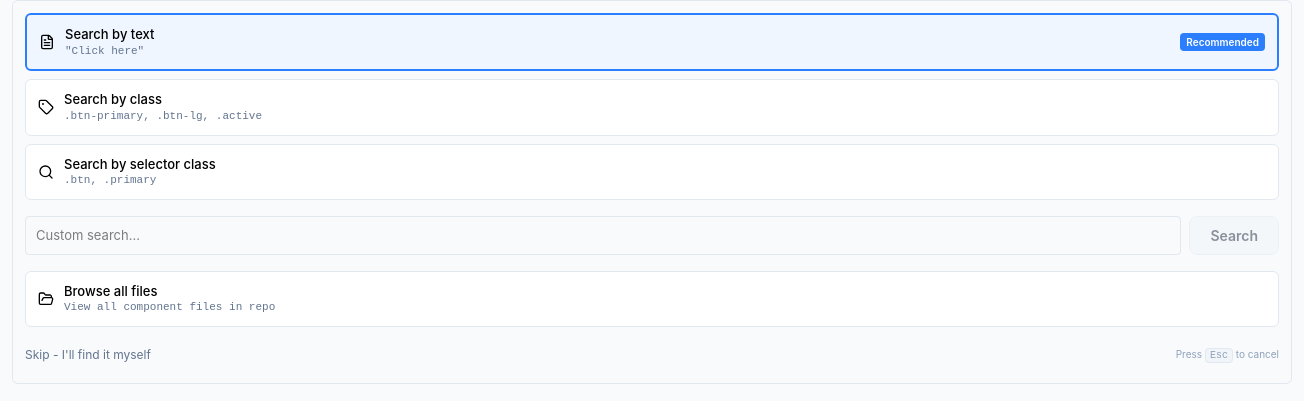
Test: findings/apply-fix/FileFinder › shows search results after searching
Click the text "Search by text" at (110, 34), box left=65, top=26, right=154, bottom=42
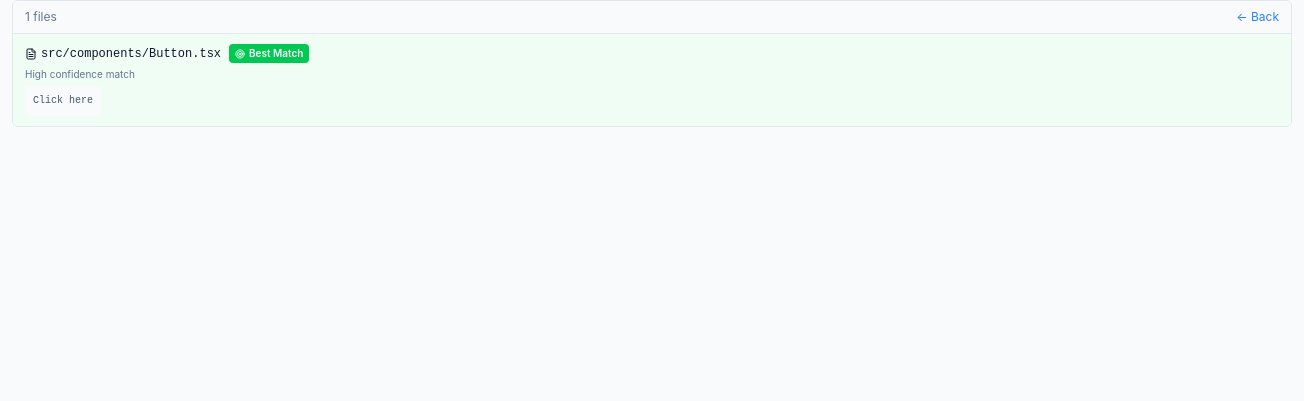
expect the text "src/components/Button.tsx" is shown: met, box left=25, top=46, right=221, bottom=62
